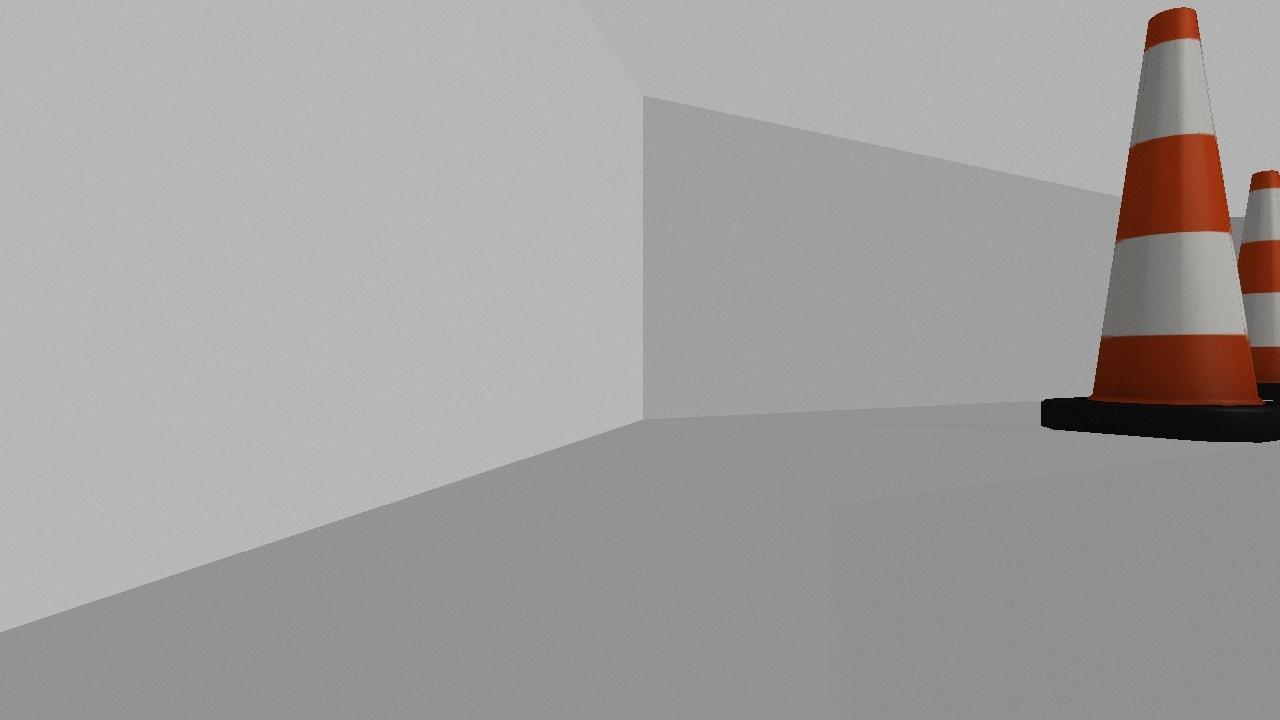cone_barrel: (1027, 0, 1279, 442), (1217, 160, 1279, 400)
